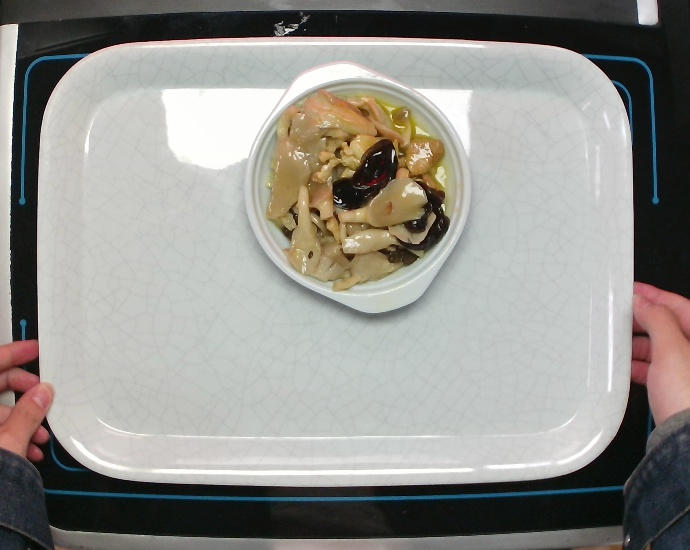JYsf-Shuang_Er_Pan: (239, 56, 477, 318)
